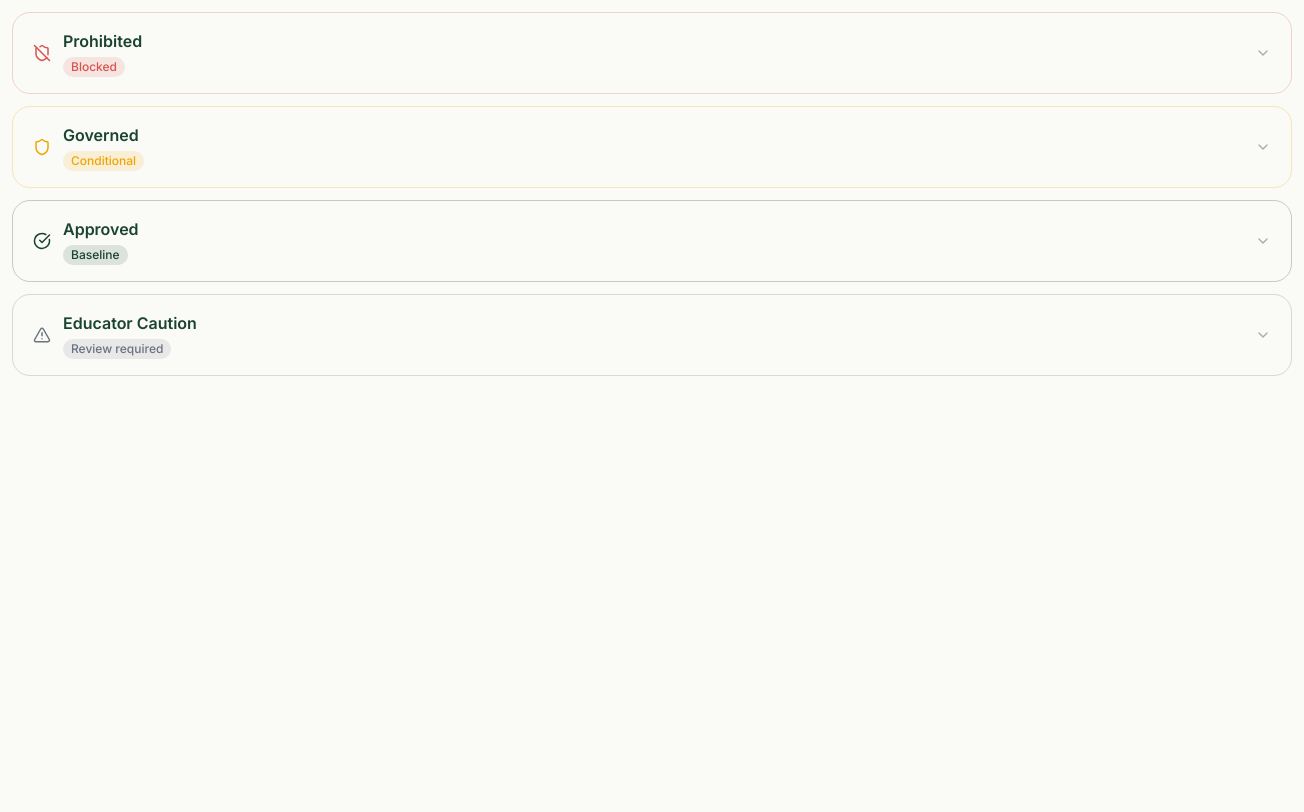
RiskTierMap › clicking Prohibited again collapses it
Click the text "Prohibited": {"x": 103, "y": 41} [63,29,142,53]
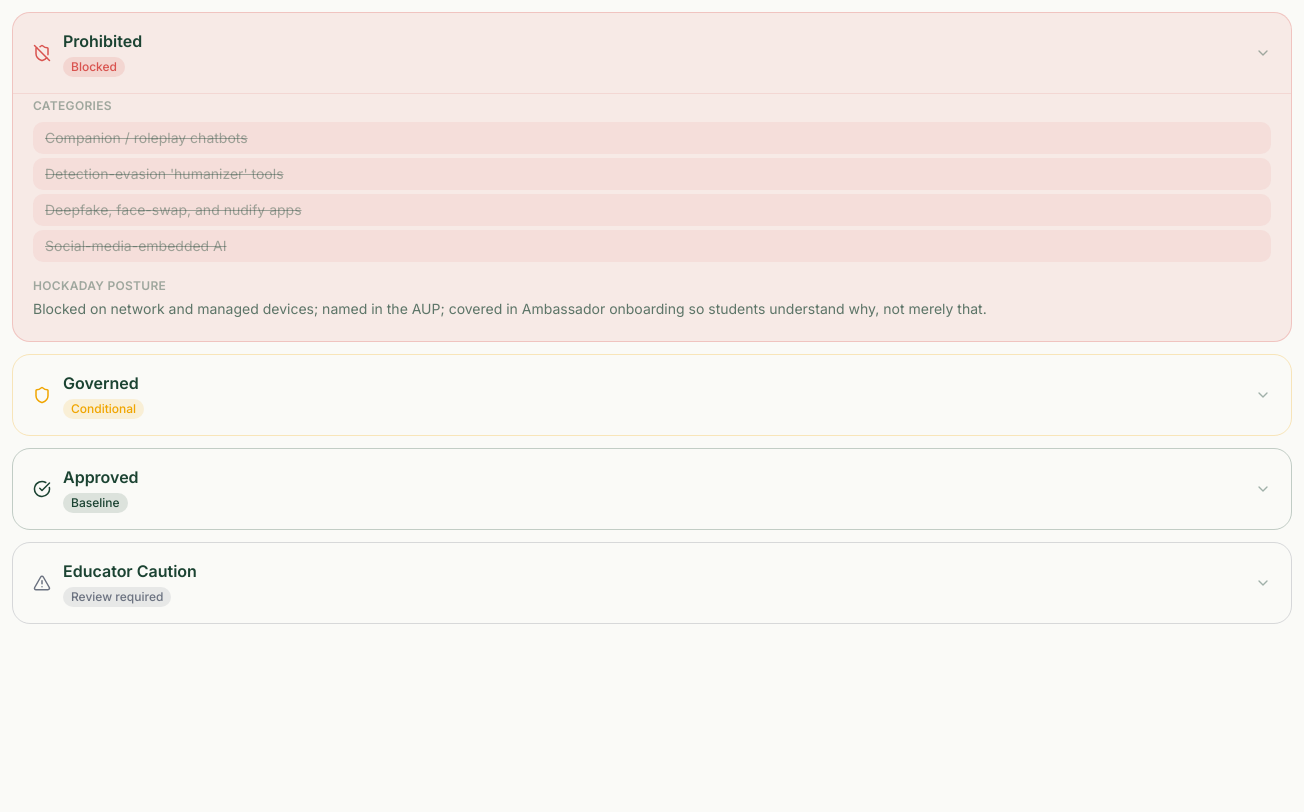
Click the text "Prohibited": {"x": 103, "y": 41} [63,29,142,53]
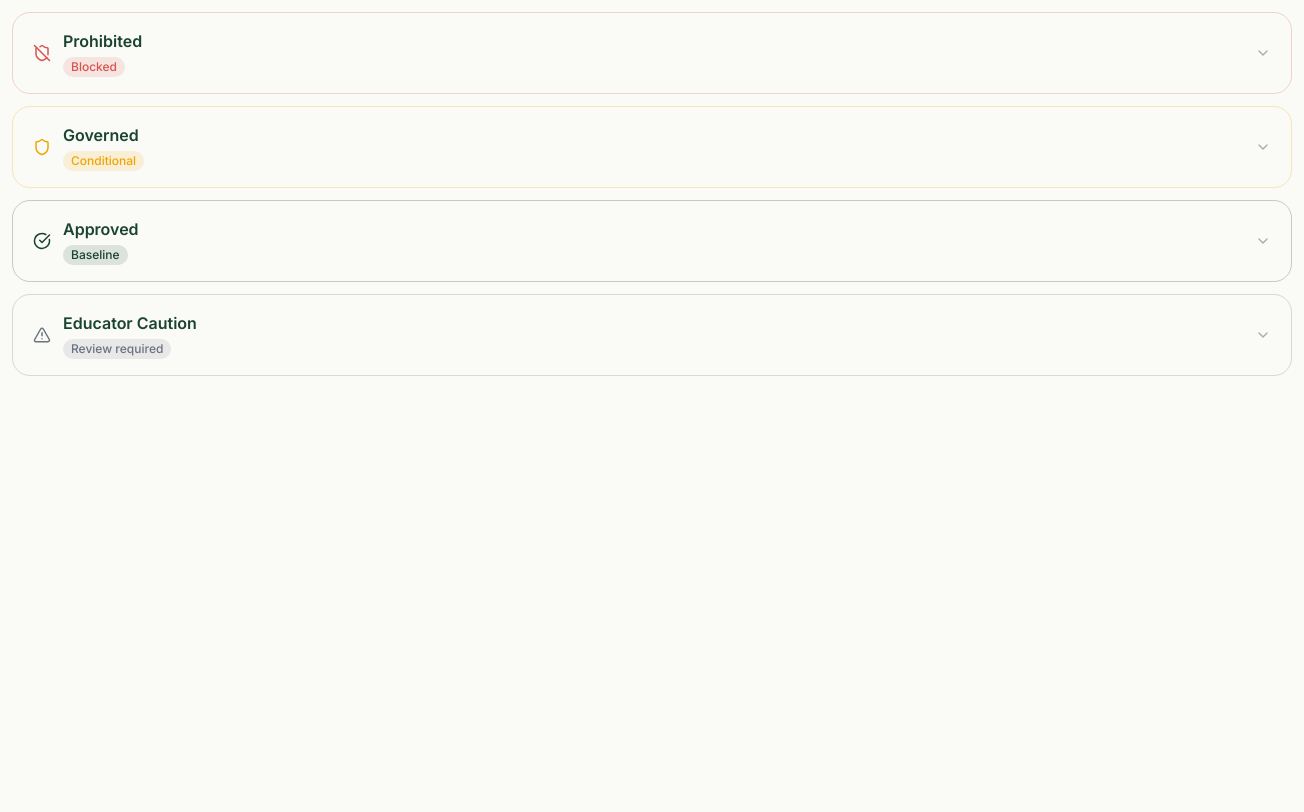
Check: the list item "Companion / roleplay chatbots" is gone
